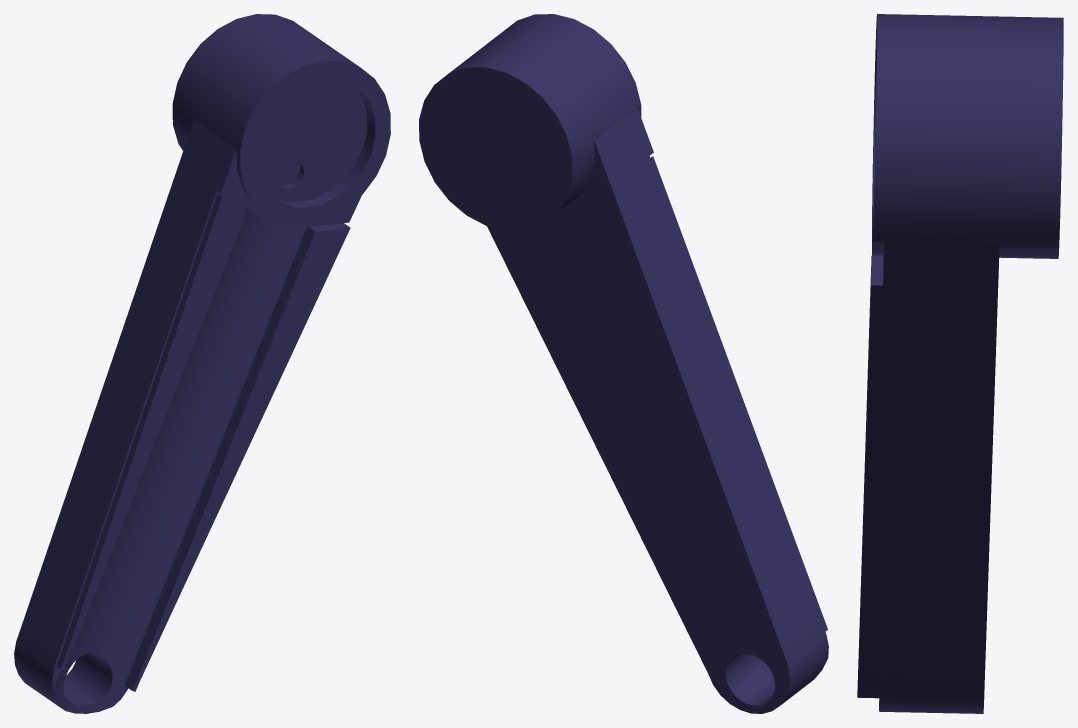
The model's file is Base_Pedal_Der.obj.
The picture shows the model from 3 angles, left to right: view 1: azimuth 30°, elevation 25°; view 2: azimuth 150°, elevation 25°; view 3: azimuth 270°, elevation 25°; orthographic projection. The views are drawn at different scales.
Parts seen in each view (by area): view 1: Component_27_001; view 2: Component_27_001; view 3: Component_27_001.
Part boxes in pixels (x1=…): Component_27_001: x1=14, y1=14, x2=390, y2=713; Component_27_001: x1=419, y1=14, x2=828, y2=713; Component_27_001: x1=857, y1=14, x2=1063, y2=713.
Bounding box in the file's own units: 3.72 × 6.36 × 1.43.
1 material, 1 textured.
